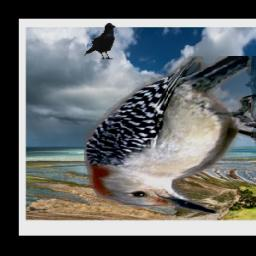Crow: (84, 22, 117, 59)
Woodpecker: (85, 56, 256, 214)
